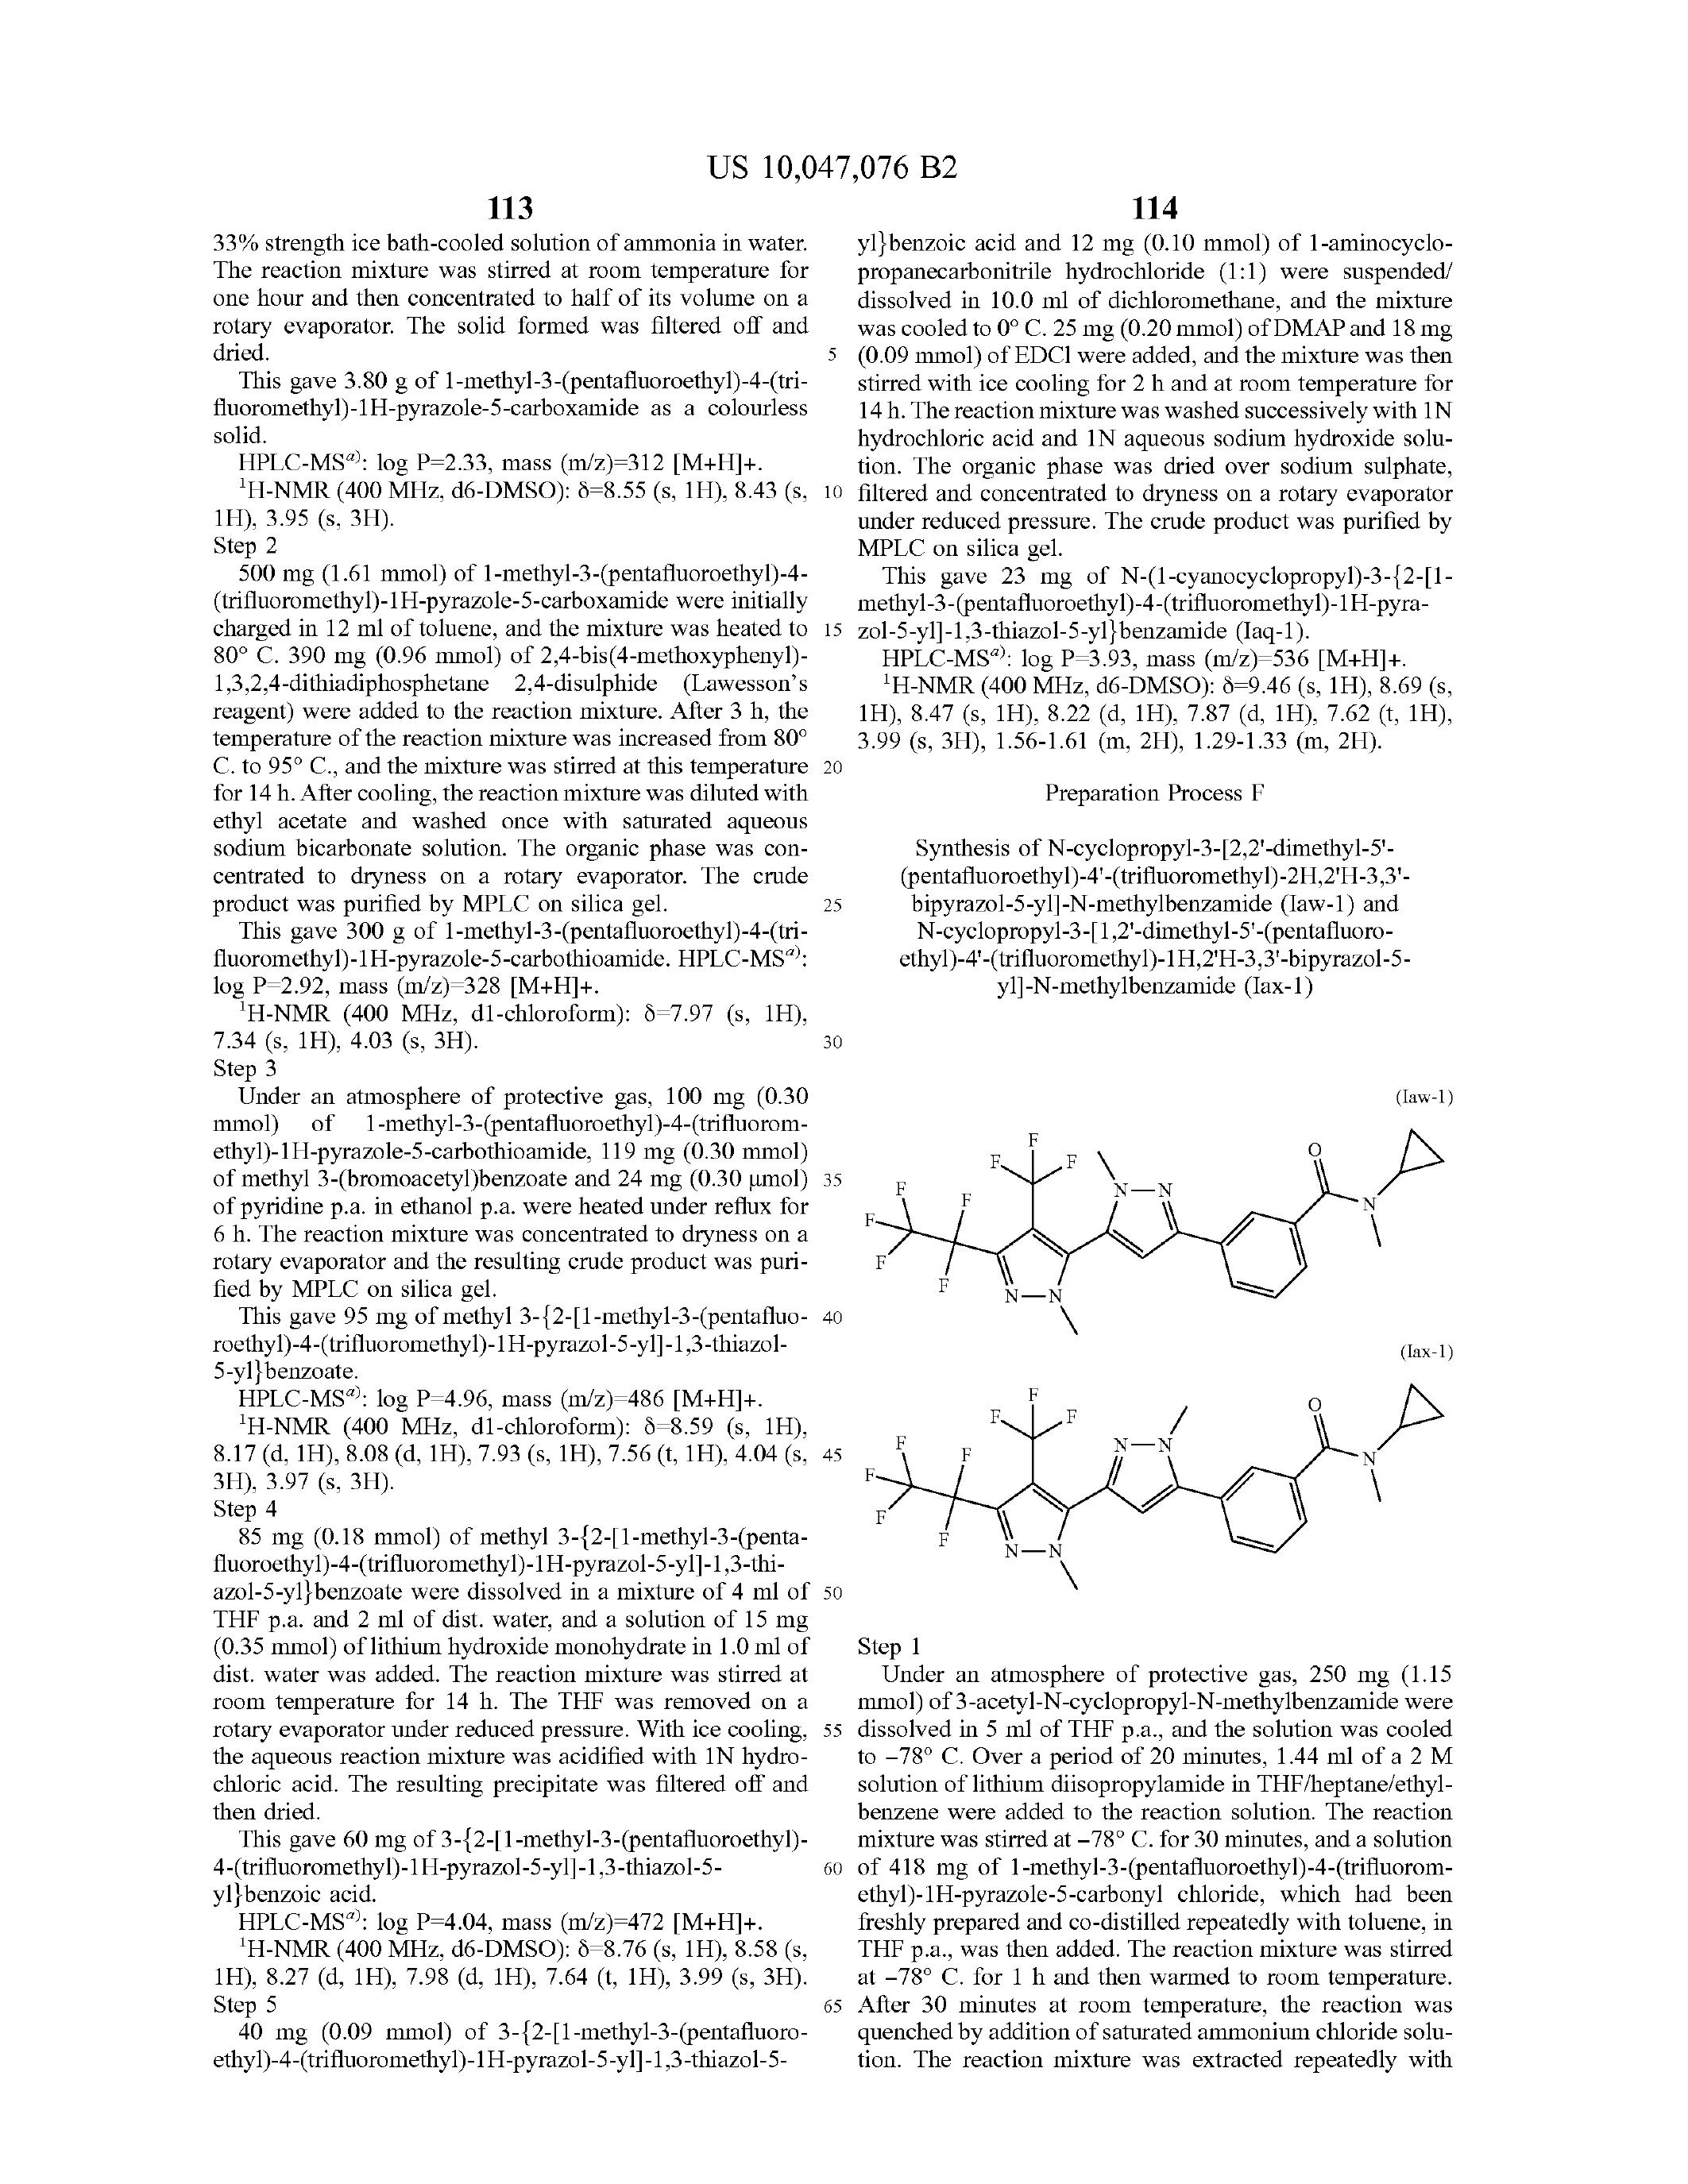relevant-structures: (846, 1367, 1516, 1663), (849, 1080, 1520, 1340)
